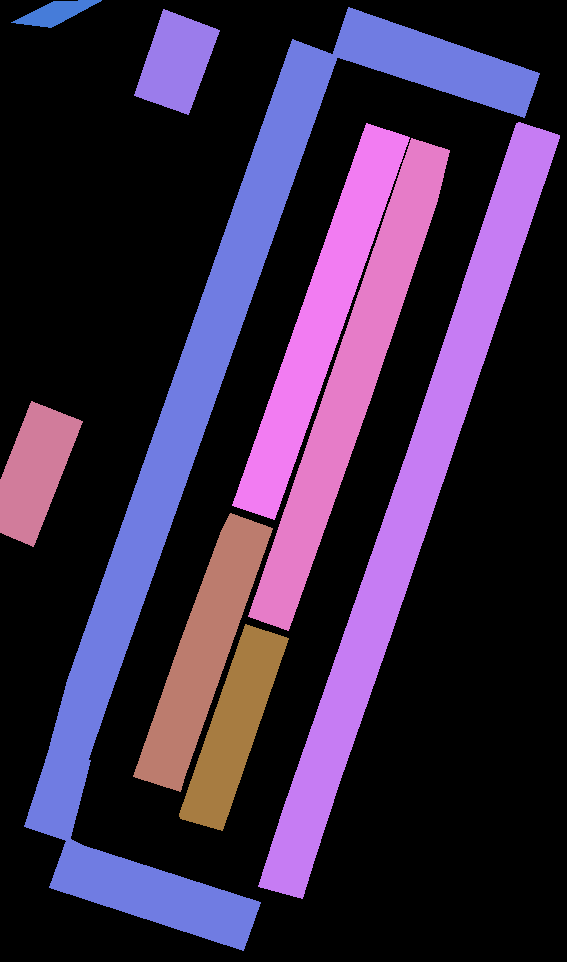parkingspot: (258, 122, 559, 898), (49, 39, 337, 759), (248, 138, 449, 630), (232, 123, 409, 519), (133, 513, 272, 791), (49, 837, 260, 950), (332, 7, 539, 117), (179, 624, 288, 830), (0, 401, 82, 546), (134, 9, 219, 114), (24, 748, 90, 841), (11, 0, 101, 27)
